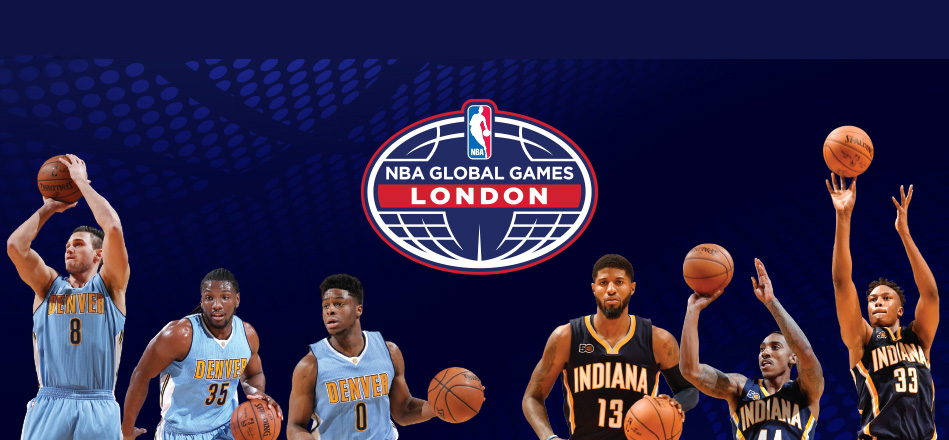basketball: (426, 366, 484, 423), (820, 123, 875, 180), (622, 393, 686, 440), (681, 242, 735, 296), (229, 396, 283, 440), (36, 153, 87, 199)
